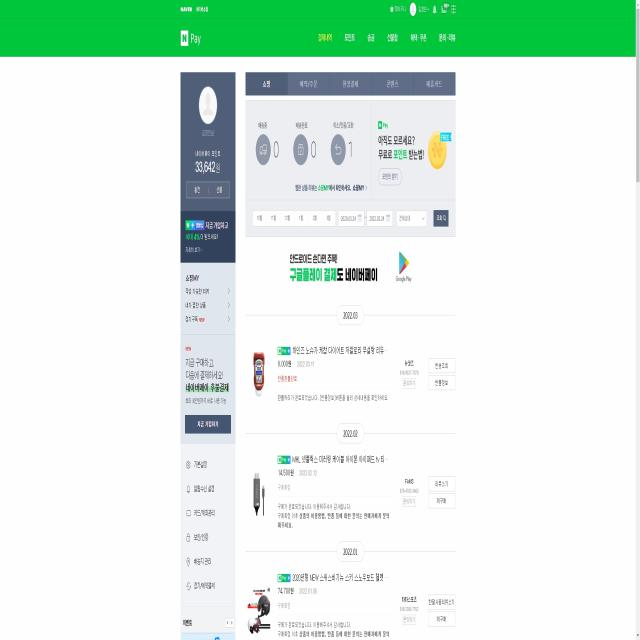menu-bar: (387, 2, 457, 17)
side-panel: (178, 68, 236, 639)
tab-bar: (245, 70, 456, 94), (317, 25, 459, 47), (178, 5, 210, 14)
